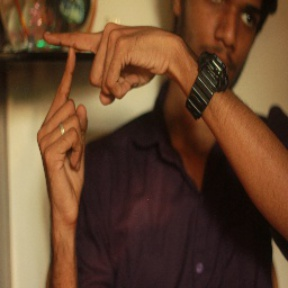T: (37, 21, 110, 131)
